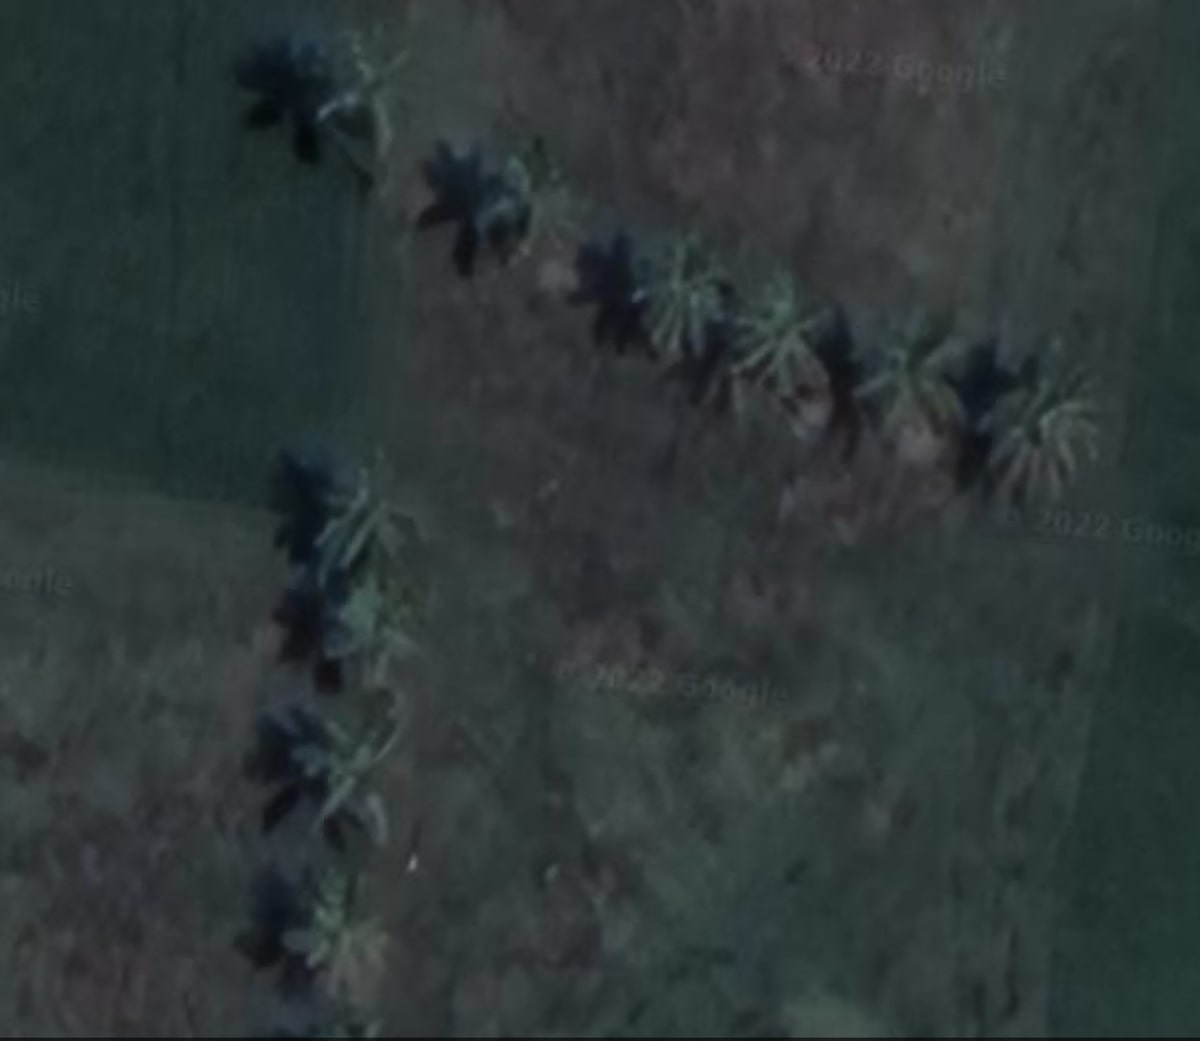coconut: (849, 303, 988, 452), (286, 711, 420, 858), (969, 350, 1104, 490), (718, 280, 846, 409), (289, 453, 429, 566), (611, 238, 724, 360), (313, 577, 435, 688), (302, 32, 416, 148), (486, 145, 583, 268), (294, 881, 389, 990)
